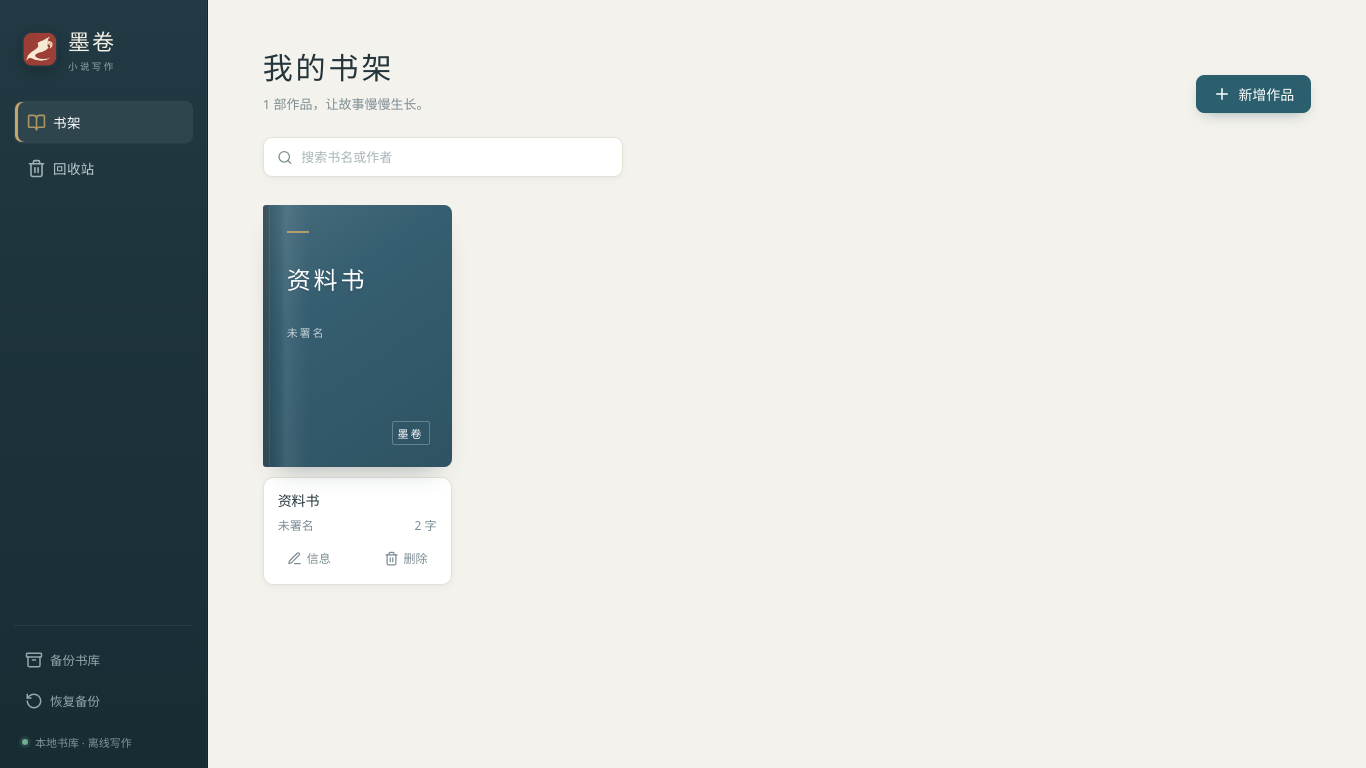
Test case: keeps manuscript and does not open materials if flush fails
Click the button with aria-label "打开 资料书" at (357, 336), box [263,205,452,467]
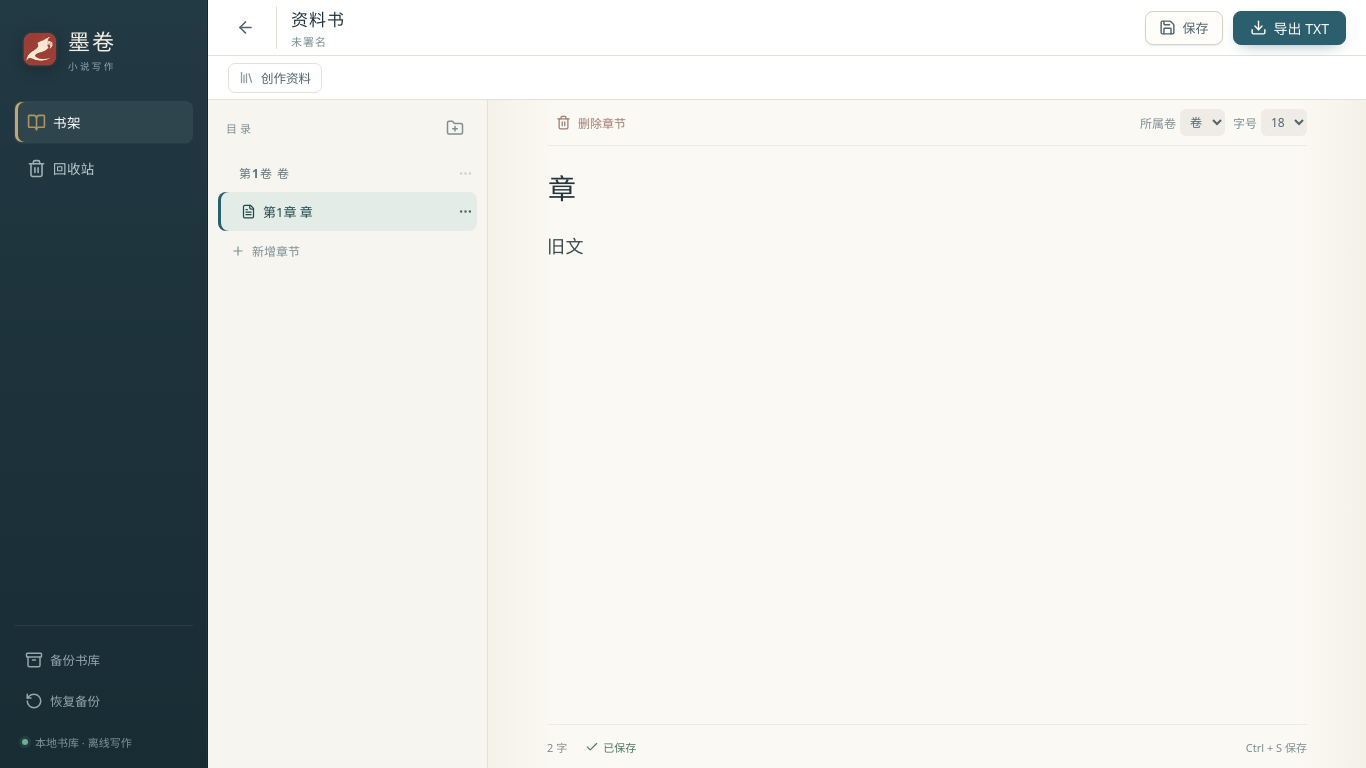
Replace the text in the text box named "章节正文" with "新文" at (927, 472), box [547,220,1307,724]
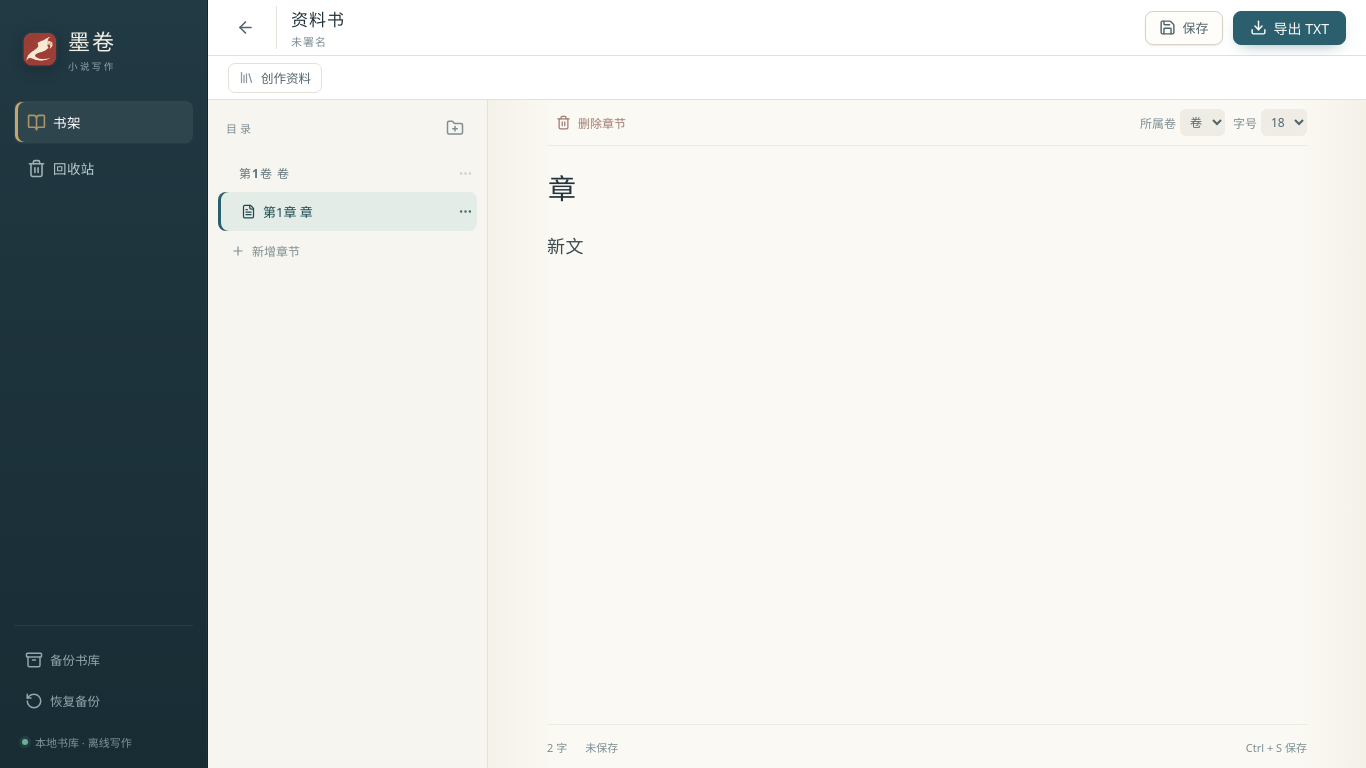
Click the button "创作资料" at (275, 78), box [228,62,322,92]
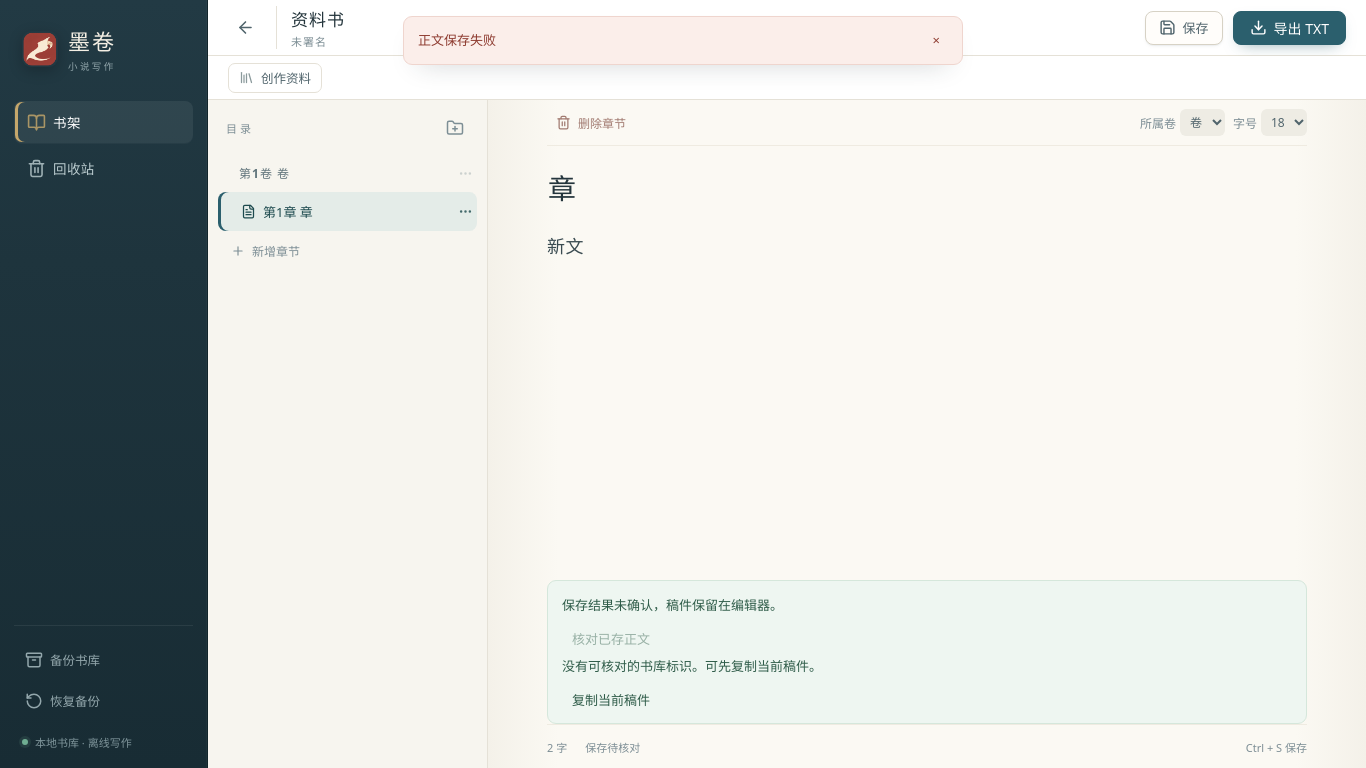
expect the text "正文保存失败" is shown: met, box [418,31,496,49]
